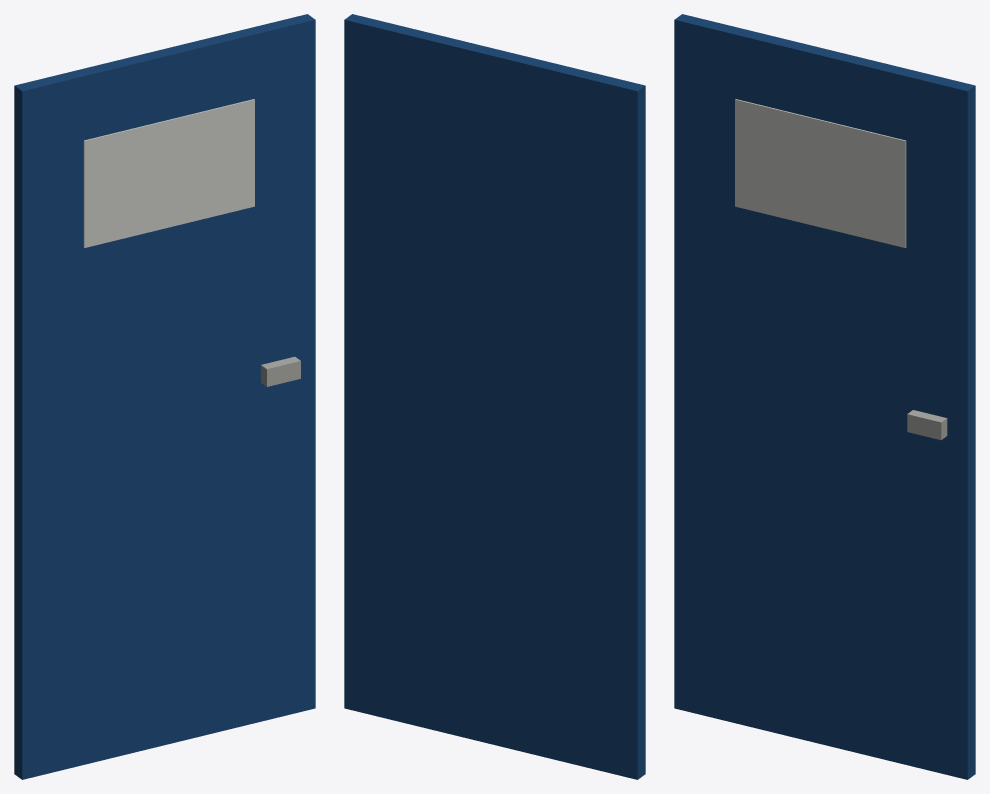
The model's file is ns_toilet_door_lod1.glb.
The picture shows the model from 3 angles, left to right: view 1: azimuth 30°, elevation 25°; view 2: azimuth 150°, elevation 25°; view 3: azimuth 330°, elevation 25°; orthographic projection.
Parts seen in each view (by area): view 1: ns_toilet_door_lod1; view 2: ns_toilet_door_lod1; view 3: ns_toilet_door_lod1.
Part boxes in pixels (x1=…): ns_toilet_door_lod1: x1=14, y1=14, x2=315, y2=779; ns_toilet_door_lod1: x1=344, y1=14, x2=645, y2=779; ns_toilet_door_lod1: x1=674, y1=14, x2=975, y2=779.
Bounding box in the file's own units: 0.86 × 1.93 × 0.07.
